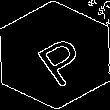P_NW: (22, 24, 88, 86)
